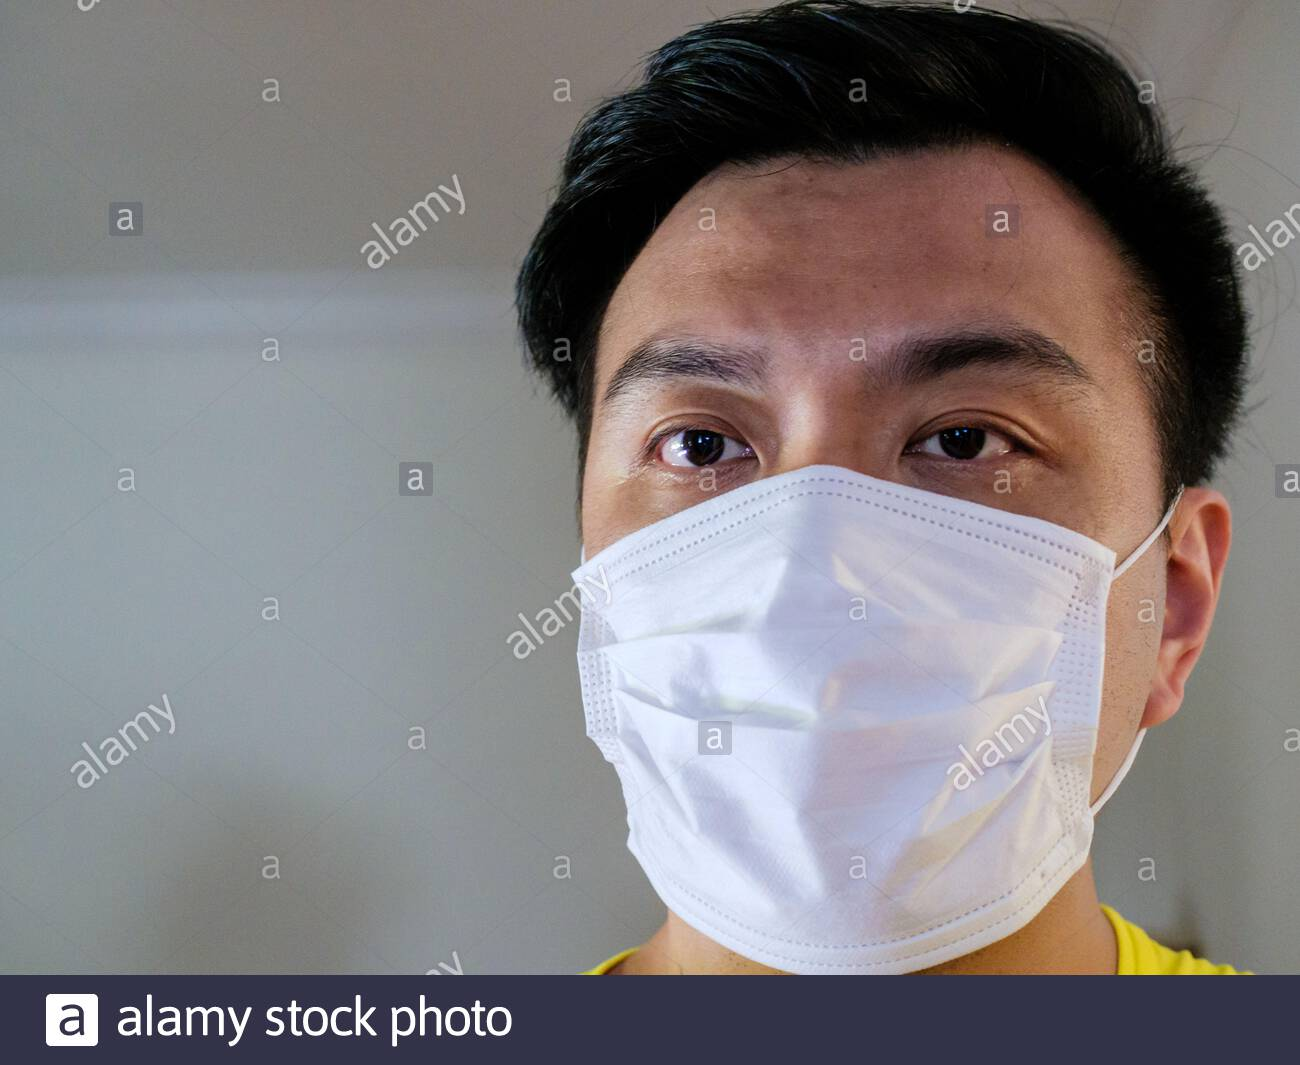mask: (532, 479, 1137, 963)
